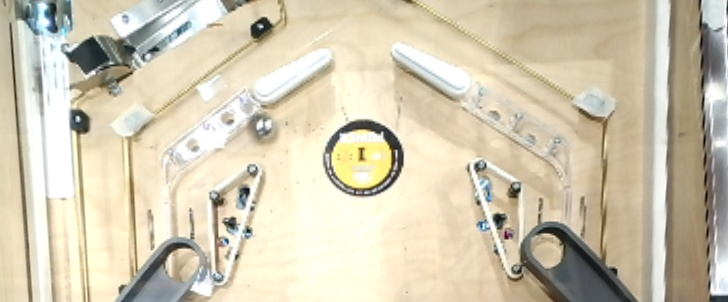ball: (249, 112, 281, 146)
flipper-left: (391, 43, 476, 103)
flipper-right: (253, 44, 336, 106)
